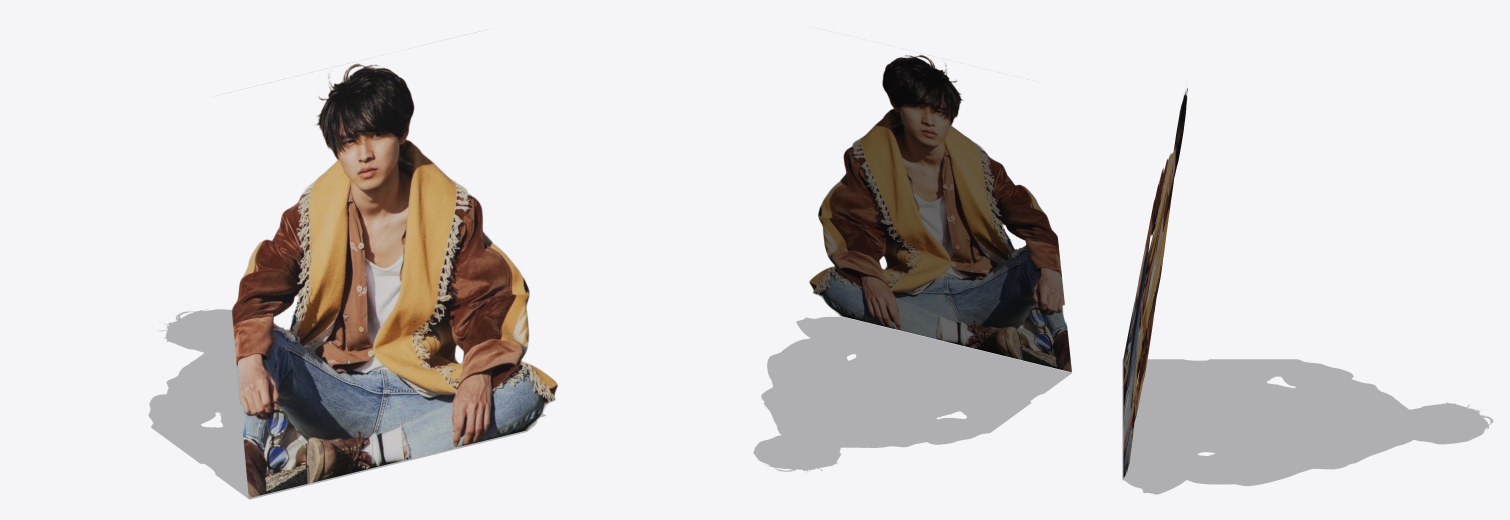
3 renders of one model, left to right at view 1: azimuth 30°, elevation 25°; view 2: azimuth 150°, elevation 25°; view 3: azimuth 270°, elevation 25°, orthographic. The views are drawn at different scales.
Parts seen in each view (by area): view 1: 平面.001, 平面; view 2: 平面.001, 平面; view 3: 平面, 平面.001.
Part boxes in pixels (x1,y1,x2,y2): 平面.001: (232, 63, 557, 497); 平面: (148, 309, 545, 499); 平面.001: (809, 55, 1071, 372); 平面: (753, 317, 1071, 471); 平面: (1122, 359, 1492, 494); 平面.001: (1123, 88, 1187, 478).
Bounding box in the file's own units: 2 × 1.97 × 2.
Materials: 2 (2 with a texture image).
